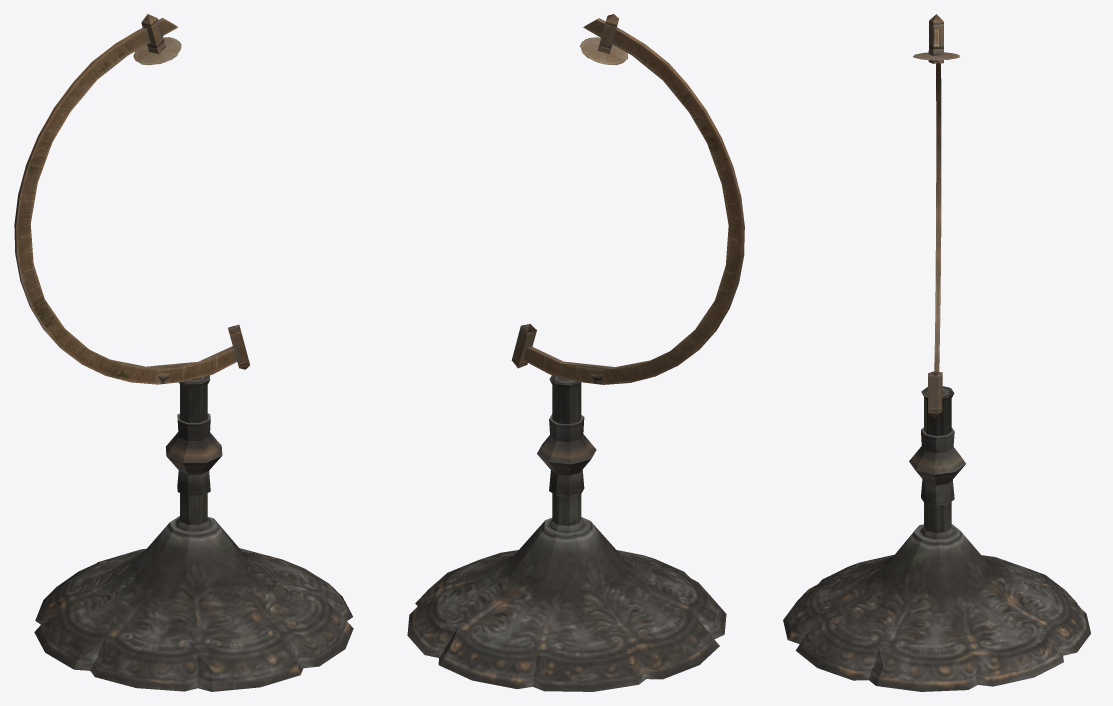
Rendered from globe-table.glb.
3 renders of one model, left to right at view 1: azimuth 30°, elevation 25°; view 2: azimuth 150°, elevation 25°; view 3: azimuth 270°, elevation 25°, orthographic. The views are drawn at different scales.
Visible parts, largest first — view 1: globe-table; view 2: globe-table; view 3: globe-table.
Boxes of the visible parts, x1,y1,x2,y2 form: globe-table: (14,14,353,691); globe-table: (407,14,744,691); globe-table: (783,14,1090,691).
Size of the model in its own units: 0.3383 by 0.6121 by 0.3052.
1 material, 1 textured.
